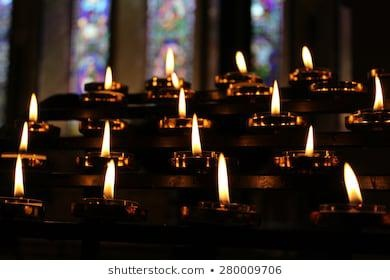fire: (341, 159, 362, 205), (216, 150, 230, 204), (188, 113, 206, 152), (163, 48, 181, 83), (25, 92, 40, 124), (372, 68, 383, 110), (269, 78, 280, 115), (304, 122, 315, 157), (103, 64, 115, 89)
